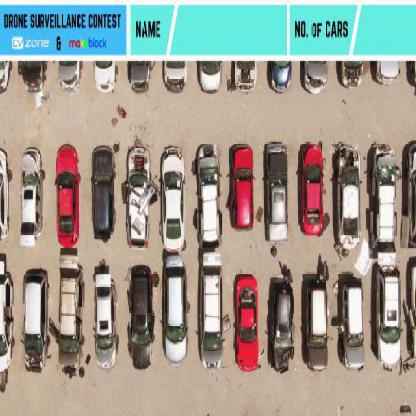car: (373, 256, 403, 362), (334, 152, 364, 256), (160, 158, 189, 258), (57, 257, 81, 375), (373, 146, 400, 250), (55, 152, 85, 242), (131, 269, 157, 369), (91, 146, 118, 242), (202, 265, 226, 371), (93, 271, 119, 367), (197, 152, 223, 243), (298, 151, 326, 235), (269, 281, 293, 377), (305, 283, 329, 373), (230, 147, 256, 230), (264, 147, 288, 236), (165, 275, 189, 364), (20, 156, 44, 242), (236, 280, 260, 364), (129, 140, 147, 250), (25, 280, 47, 364), (346, 286, 366, 368), (303, 63, 331, 94), (200, 62, 224, 94), (269, 61, 292, 93), (164, 62, 188, 92), (21, 60, 44, 90), (129, 62, 151, 92), (376, 63, 402, 87), (341, 62, 365, 88), (93, 64, 115, 92), (237, 61, 257, 91), (59, 64, 80, 92), (0, 57, 8, 95)
